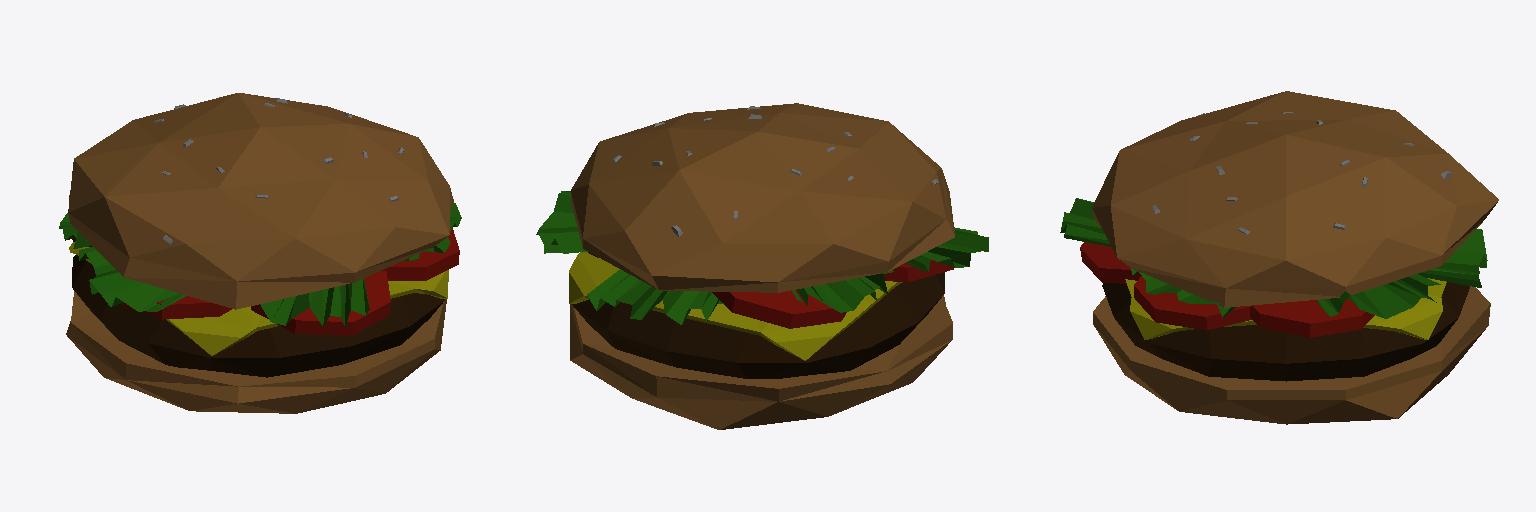
The model's file is Burger.obj.
The picture shows the model from 3 angles: view 1: azimuth 30°, elevation 25°; view 2: azimuth 150°, elevation 25°; view 3: azimuth 270°, elevation 25°; orthographic projection.
Visible parts, largest first — view 1: Burger_Icosphere; view 2: Burger_Icosphere; view 3: Burger_Icosphere.
Part boxes in pixels (x1,y1,x2,y2): Burger_Icosphere: (59,93,461,413); Burger_Icosphere: (536,103,988,429); Burger_Icosphere: (1060,91,1498,424).
Size of the model in its own units: 1.65 by 1.07 by 1.7.